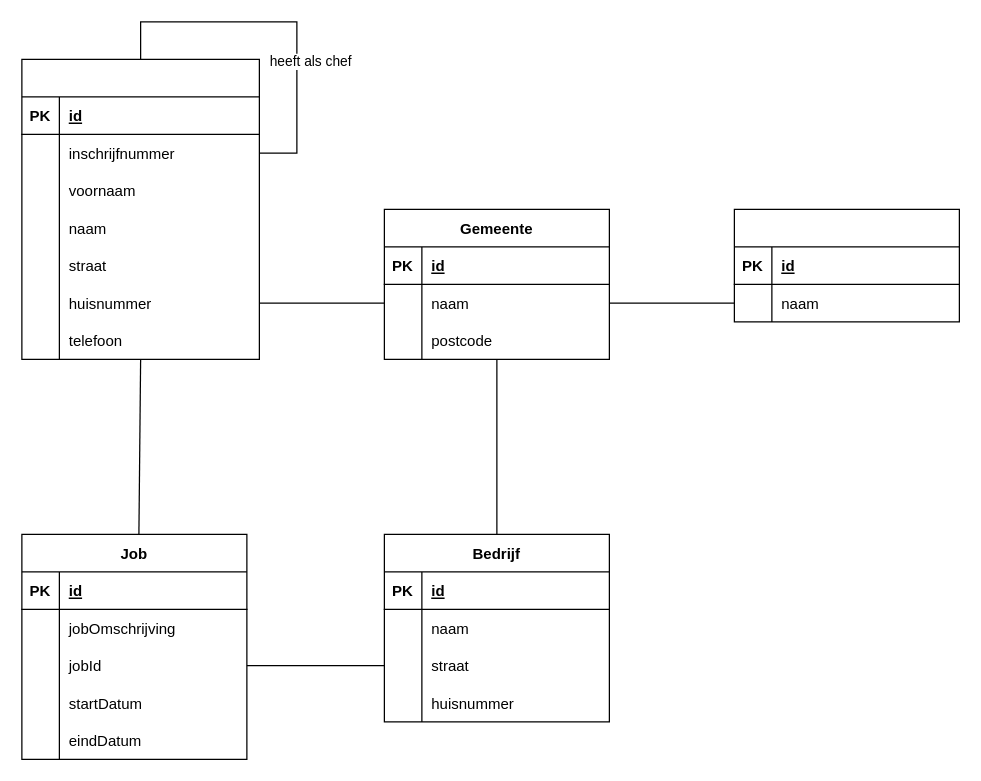
This 981x781 diagram has some shape labels left out. The shapes that lost their labels are listed below. From the top down, each one's box as (x1, y1, x2, y2) in pixels, then its label:
(21, 58, 259, 359): Werknemer
(733, 208, 959, 322): Land
